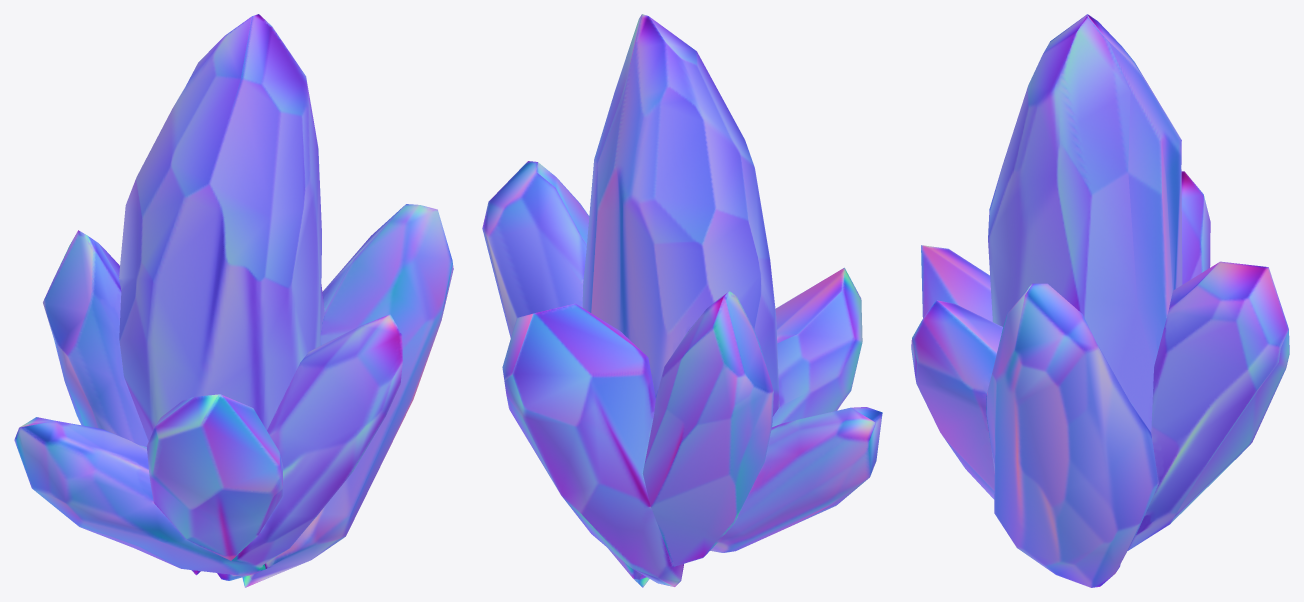
File: light.gltf
The picture shows the model from 3 angles, left to right: view 1: azimuth 30°, elevation 25°; view 2: azimuth 150°, elevation 25°; view 3: azimuth 270°, elevation 25°; orthographic projection.
Visible parts, largest first — view 1: Crystal (1)_3; view 2: Crystal (1)_3; view 3: Crystal (1)_3.
Boxes of the visible parts, left/top/right/bottom form: Crystal (1)_3: left=14, top=14, right=453, bottom=587; Crystal (1)_3: left=482, top=14, right=882, bottom=587; Crystal (1)_3: left=911, top=14, right=1289, bottom=587.
Bounding box in the file's own units: 1.2 × 1.62 × 0.9695.
1 material, 1 textured.
